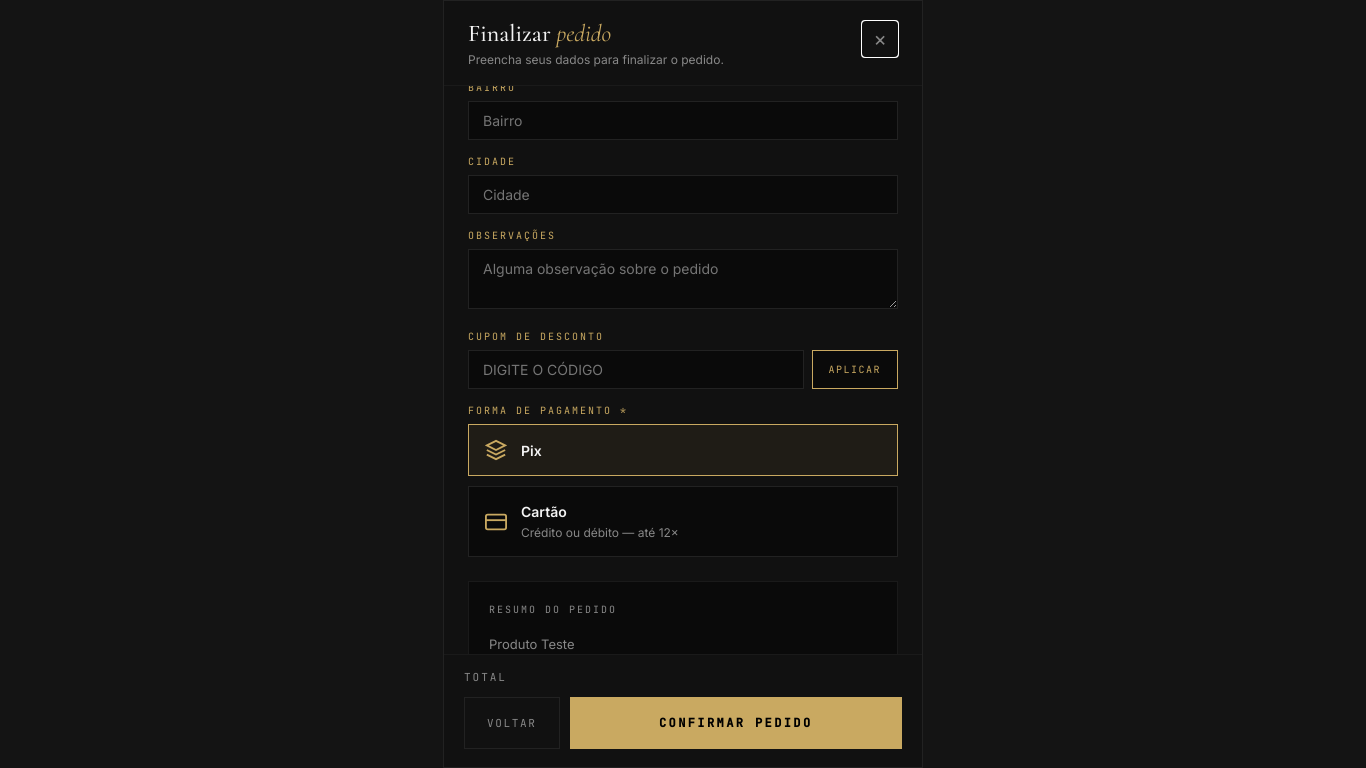
Test: CheckoutModal › aplica cupom consultando o banco, nao uma lista fixa
(page scrolled)
Type "5off" into the field labelled "Cupom de desconto".
click(636, 370); type("5off")  # box [468,350,804,389]
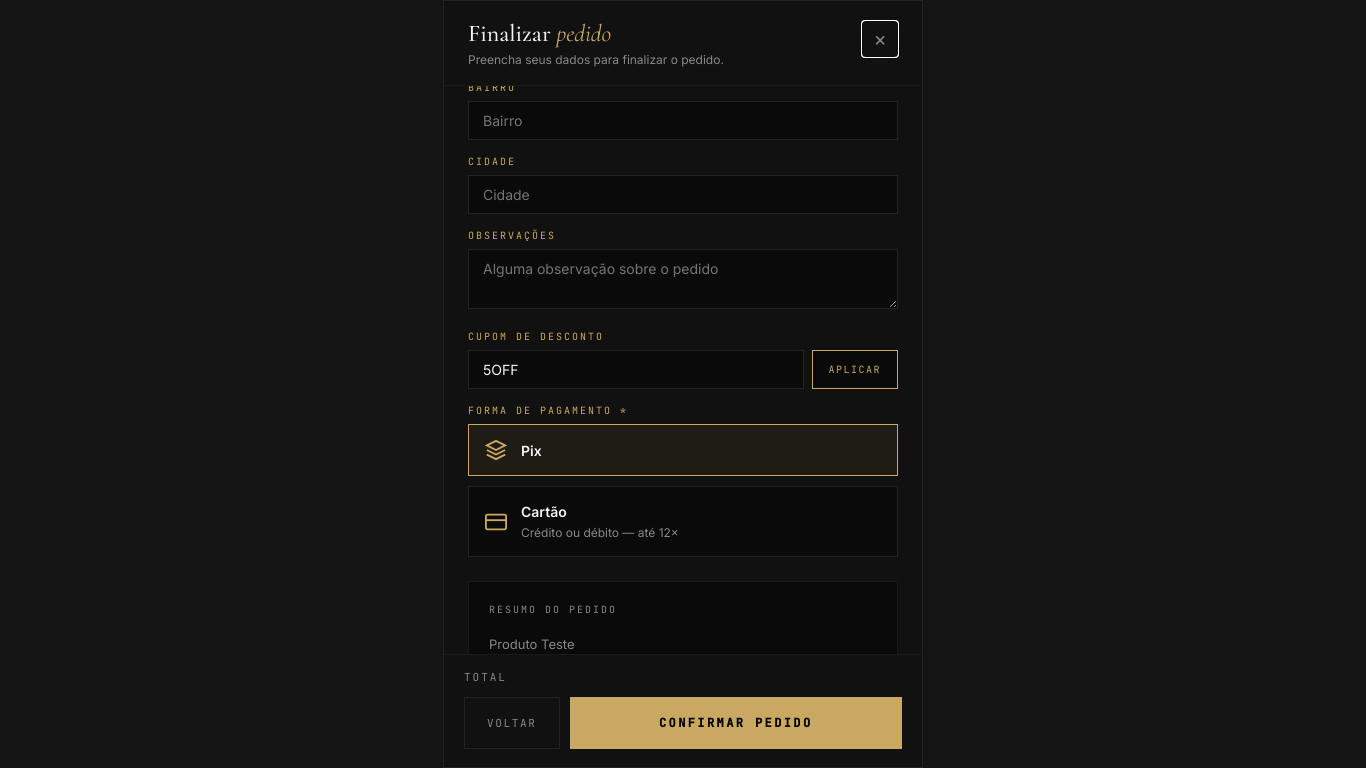
Click the button "APLICAR".
click(855, 370)  # box [812,350,898,389]
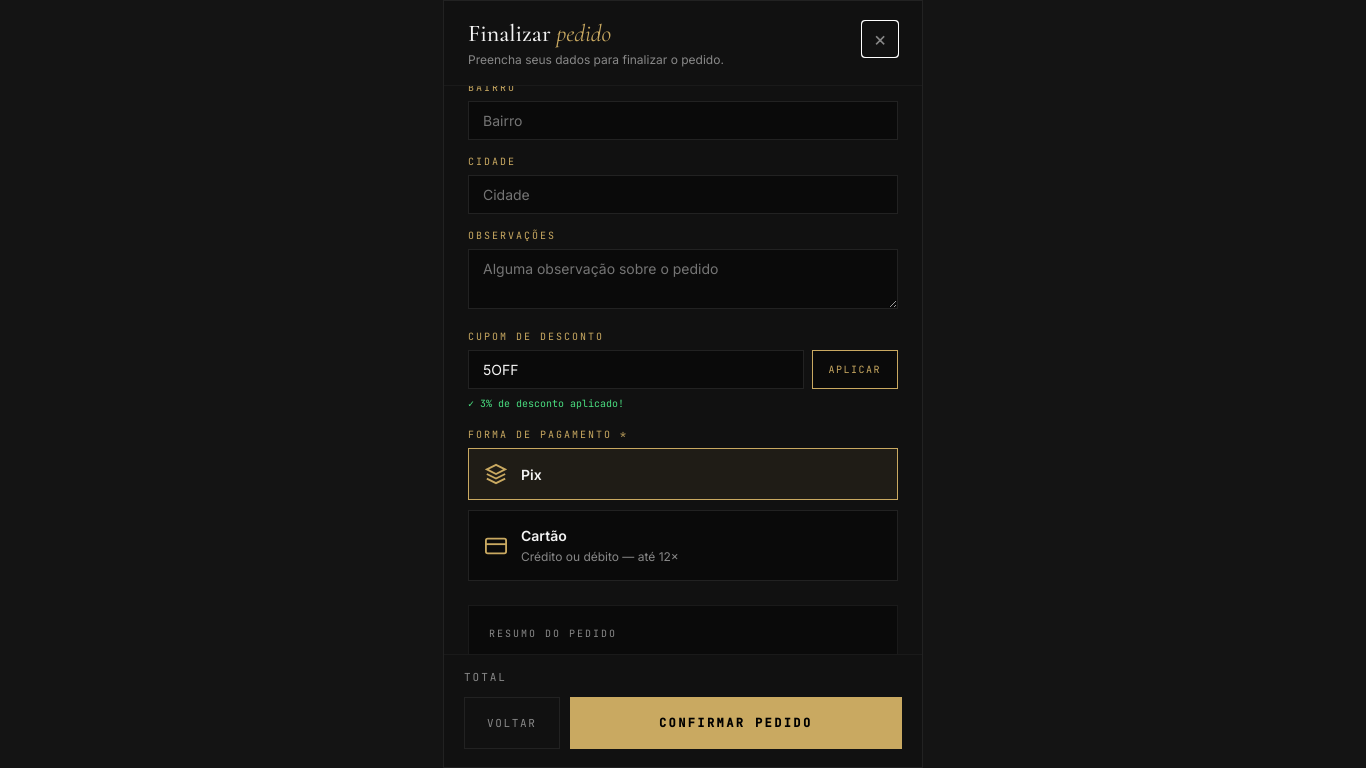
Check: the text "✓ 3% de desconto aplicado!" is shown, box [468,397,624,410]
